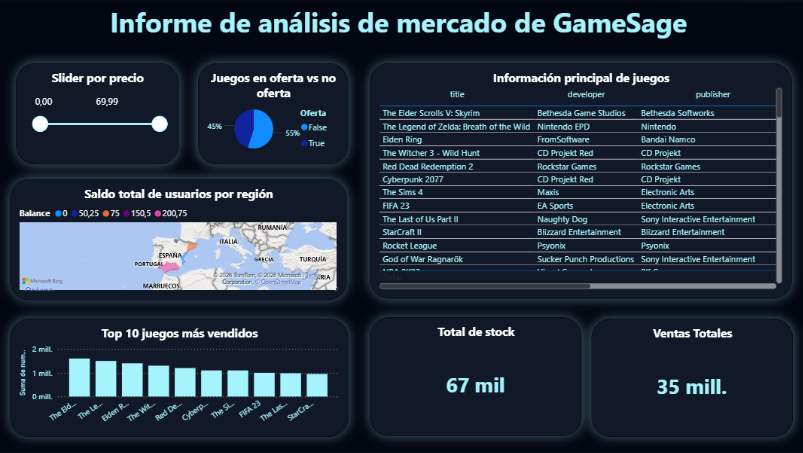

This screenshot's page, from the dashboard's own definition file:
{"tool":"powerbi","page":{"name":"Página 1","canvas":[1280,720],"ordinal":0},"visuals":[{"type":"cardVisual","title":"Ventas Totales","fields":{"Data":["Sum(games.numberOfSales)"]},"box":[945,503.3,318.3,186.7],"z":0},{"type":"clusteredColumnChart","title":"Top 10 juegos más vendidos","fields":{"Category":["games.title"],"Y":["Sum(games.numberOfSales)"]},"box":[25,503.3,535,186.7],"z":1000},{"type":"filledMap","title":"Saldo total de usuarios por región","fields":{"Category":["users.region"],"Series":["users.balance"]},"box":[26.5,282.4,532.4,191.2],"z":3000},{"type":"tableEx","title":"Información principal de juegos","fields":{"Values":["games.title","games.developer","games.publisher","Sum(games.rating)","Sum(games.effective_price)","Sum(games.numberOfSales)","Sum(games.total_stock)"]},"box":[595,100,667.5,372.5],"z":4000},{"type":"slicer","title":"Slider por precio","fields":{"Values":["games.effective_price"]},"box":[35,100,257.5,160],"z":5000},{"type":"textbox","box":[0,0,1279.8,83.6],"z":7000},{"type":"pieChart","title":"Juegos en oferta vs no oferta","fields":{"Category":["games.isOnSale"],"Y":["CountNonNull(games.title)"]},"box":[322.5,100,237.5,160],"z":9000},{"type":"cardVisual","title":"Total de stock","fields":{"Data":["Sum(games.total_stock)"]},"box":[595,502.5,335,187.5],"z":9001}]}

Visuals, with their boxes in screenshot pixels (x1, y1, x2, y2), scaled from the page's 1280x720 canvas onto the 803x453 screenshot:
"Ventas Totales" cardVisual: 593,317,793,434
"Top 10 juegos más vendidos" clusteredColumnChart: 16,317,351,434
"Saldo total de usuarios por región" filledMap: 17,178,351,298
"Información principal de juegos" tableEx: 373,63,792,297
"Slider por precio" slicer: 22,63,183,164
textbox: 0,0,802,53
"Juegos en oferta vs no oferta" pieChart: 202,63,351,164
"Total de stock" cardVisual: 373,316,583,434
